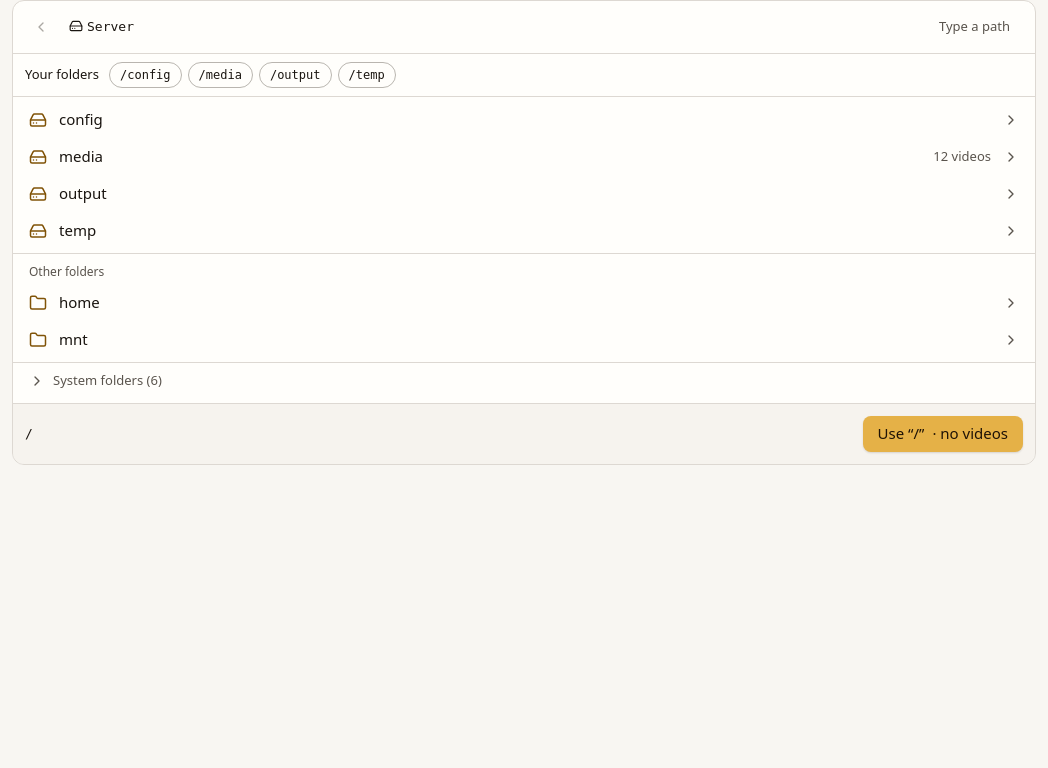
FolderPicker in a container › offers the folders given to it as quick choices, with the system folders folded away
Expected: the button "etc" is not shown
Click the button "System folders (6)" at (100, 380), box 13,363 -> 1035,398
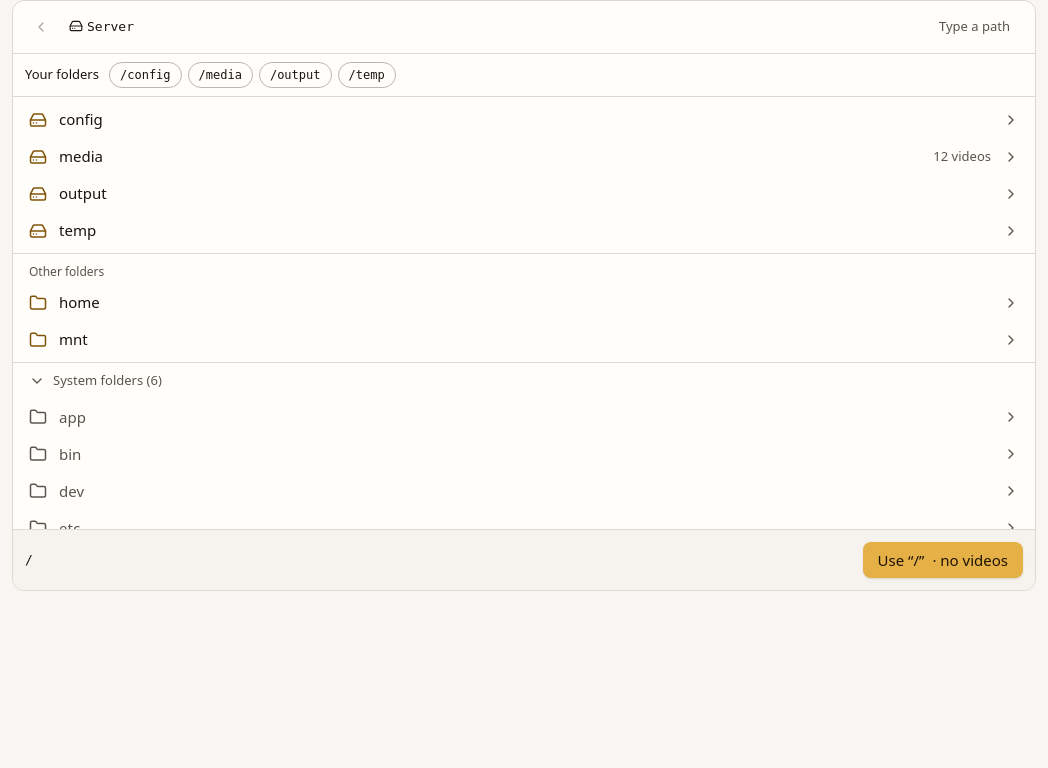
Result: the button "System folders (6)" is expanded at 13,363 -> 1035,398
